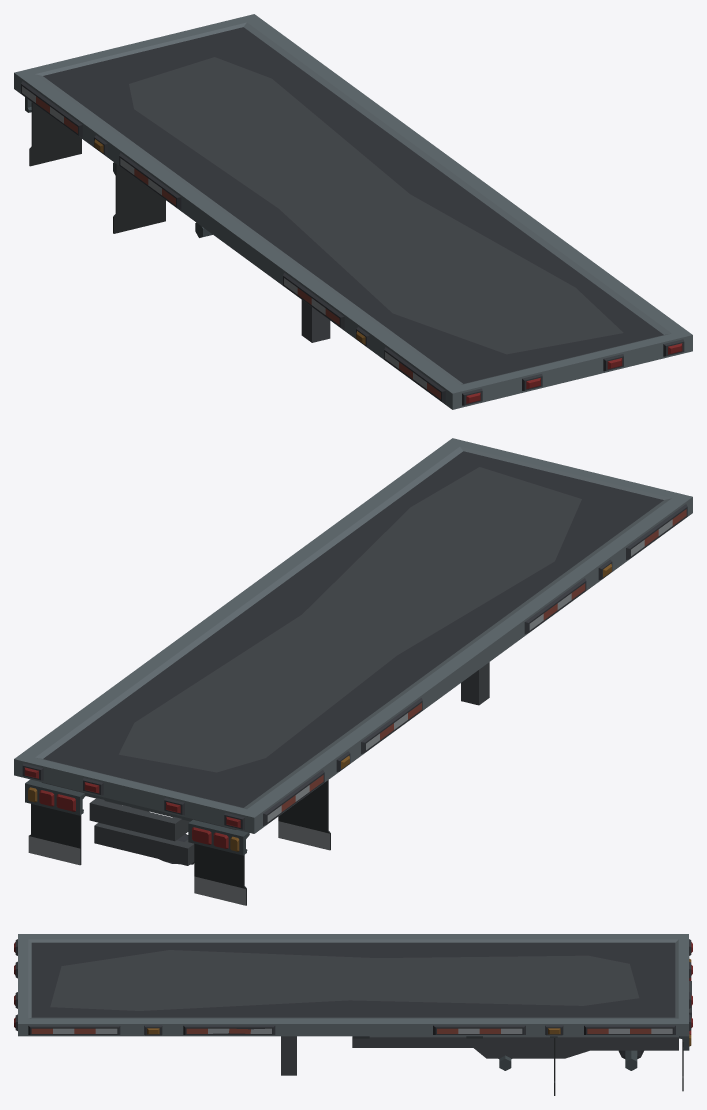
File: SM_Veh_BigRig_Trailer_01.obj
The picture shows the model from 3 angles, top to bottom: view 1: azimuth 30°, elevation 25°; view 2: azimuth 150°, elevation 25°; view 3: azimuth 270°, elevation 25°; orthographic projection. The views are drawn at different scales.
Parts seen in each view (by area): view 1: SM_Veh_BigRig_Trailer_01_0; view 2: SM_Veh_BigRig_Trailer_01_0; view 3: SM_Veh_BigRig_Trailer_01_0.
Part boxes in pixels (box(x1,y1,x2,y2)): SM_Veh_BigRig_Trailer_01_0: box(14, 14, 692, 409); SM_Veh_BigRig_Trailer_01_0: box(14, 438, 692, 905); SM_Veh_BigRig_Trailer_01_0: box(14, 934, 692, 1095).
Size of the model in its own units: 2.87 by 1.13 by 8.83.
Materials: 1 (1 with a texture image).
